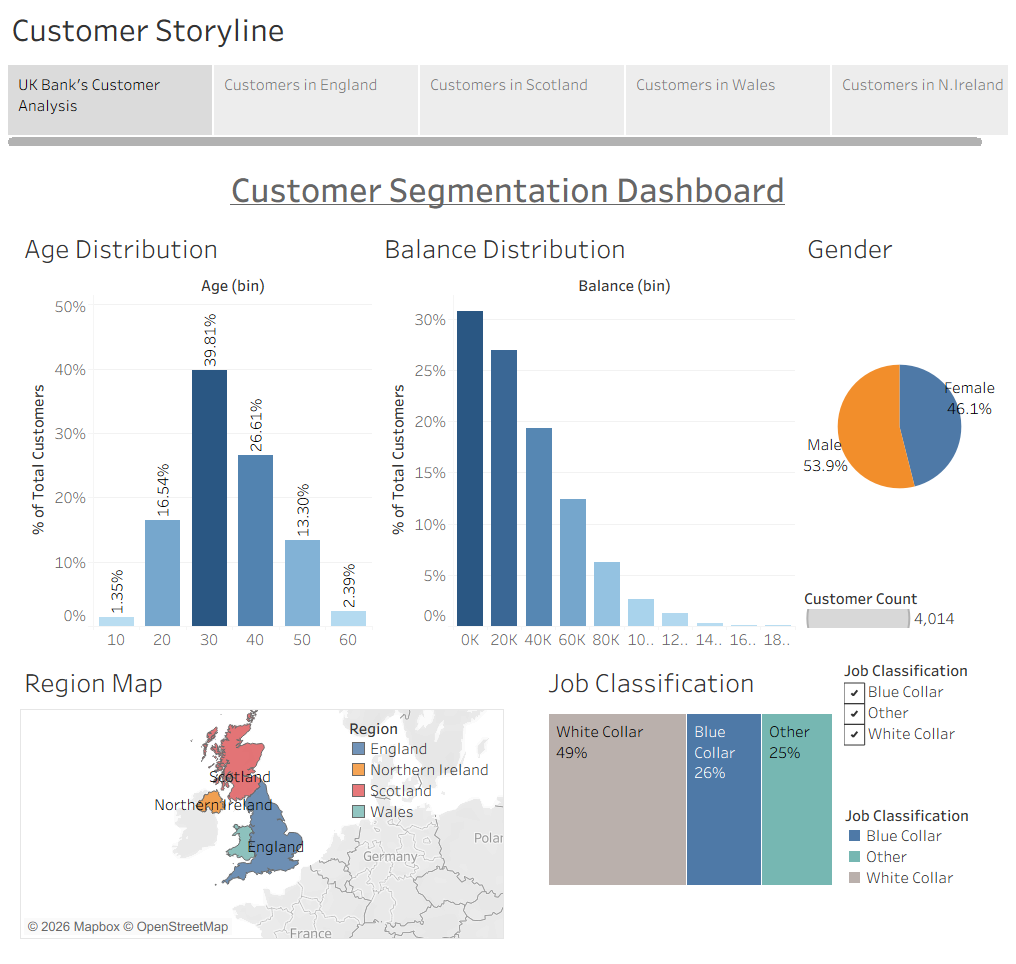

The page's visual inventory and layout, read from the dashboard file:
{"tool":"tableau","page":{"name":"Customer Segmentation","canvas":[1000,800],"ordinal":0},"visuals":[{"type":"text","box":[8,8,984,59]},{"type":"worksheet","title":"Age Distribution","mark":"Bar","rows":["P1-UK-Bank-Customers.csv_58A40CC0A9264916A25B9D38EEFD2ABD"],"cols":["Age (bin)"],"box":[8,70,360,433.7]},{"type":"worksheet","title":"Balance Distribution","mark":"Automatic","rows":["P1-UK-Bank-Customers.csv_58A40CC0A9264916A25B9D38EEFD2ABD"],"cols":["Balance (bin)"],"box":[368,70,423,433.7]},{"type":"worksheet","title":"Gender","mark":"Pie","box":[791,70,201,361]},{"type":"legend","title":"Gender","param":"[federated.04kotmu1ve3lps1ax3nhr1dlsbz9].[__tableau_internal_object_id__].[cnt:P","box":[791,431,201,66.3]},{"type":"worksheet","title":"Region Map","mark":"Multipolygon","box":[8,503.7,492,288.3]},{"type":"worksheet","title":"Job Classification","mark":"Automatic","box":[532,503.7,300,288.3]},{"type":"filter","title":"Job Classification","param":"[federated.04kotmu1ve3lps1ax3nhr1dlsbz9].[none:Job Classification:nk]","box":[832,503.7,160,144.1]},{"type":"legend","title":"Region Map","param":"[federated.04kotmu1ve3lps1ax3nhr1dlsbz9].[none:Region:nk]","box":[340,565,146,106]},{"type":"legend","title":"Job Classification","param":"[federated.04kotmu1ve3lps1ax3nhr1dlsbz9].[none:Job Classification:nk]","box":[832,647.9,160,144.1]}]}

Visuals, with their boxes on the page's 1000x800 design canvas (x1, y1, x2, y2). These are canvas units, not pixel positions in the 1016x964 screenshot, which may show the page scaled, cropped or inside an application window:
text: locate(8, 8, 992, 67)
"Age Distribution" worksheet (Bar marks): locate(8, 70, 368, 504)
"Balance Distribution" worksheet: locate(368, 70, 791, 504)
"Gender" worksheet (Pie marks): locate(791, 70, 992, 431)
"Gender" legend: locate(791, 431, 992, 497)
"Region Map" worksheet (Multipolygon marks): locate(8, 504, 500, 792)
"Job Classification" worksheet: locate(532, 504, 832, 792)
"Job Classification" filter: locate(832, 504, 992, 648)
"Region Map" legend: locate(340, 565, 486, 671)
"Job Classification" legend: locate(832, 648, 992, 792)
